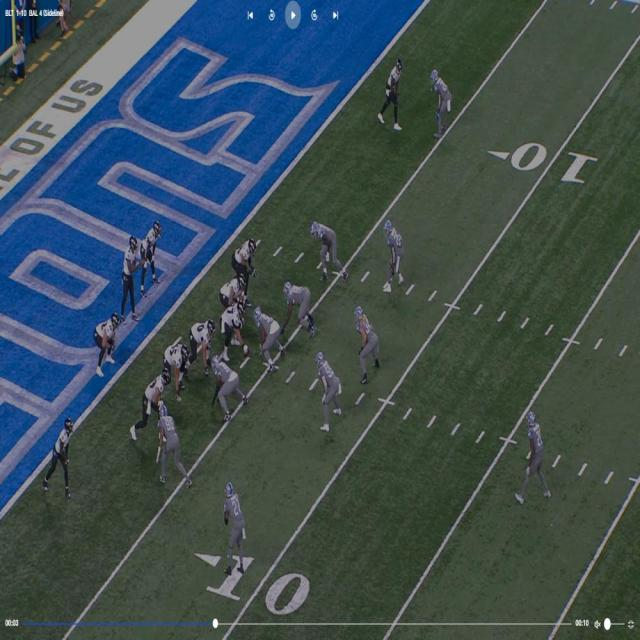center: (226, 297, 250, 343)
db: (522, 409, 553, 502), (381, 216, 407, 294), (224, 482, 246, 568), (428, 67, 448, 124)
lb: (316, 347, 343, 435), (156, 391, 181, 485), (310, 220, 347, 280), (355, 301, 378, 383)
qb: (122, 235, 140, 322)
skill: (134, 366, 172, 444), (142, 215, 164, 294), (54, 416, 72, 497), (97, 314, 120, 377), (386, 56, 406, 123)
